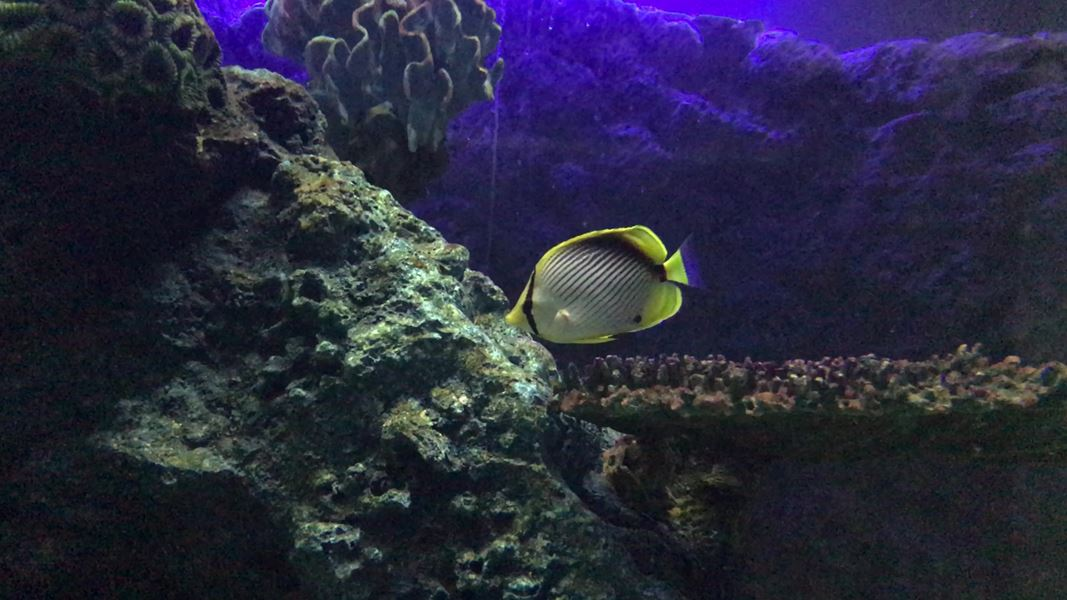Black-backed butterflyfish: (495, 215, 720, 358)
